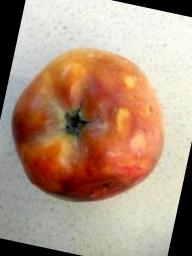Apple Rotten: (0, 34, 182, 223)
